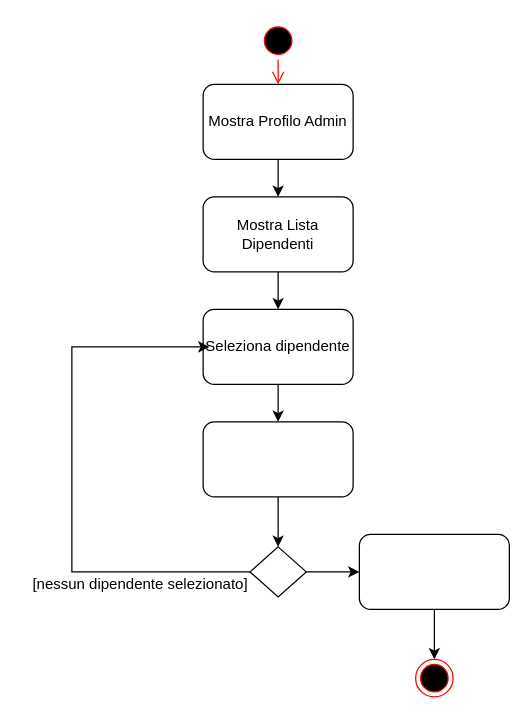
This 531x719 diagram has some shape labels left out. The box of each missing label's shape, as (x1, y1, x2, y2) in pixels:
Conferma operazione: (358, 533, 509, 609)
Elimina dipendente: (202, 421, 353, 497)
